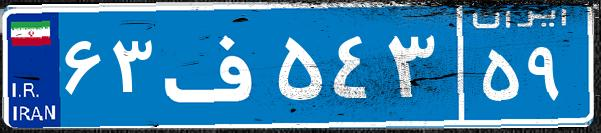3: (385, 28, 445, 110), (110, 28, 158, 105)
4: (330, 28, 385, 110)
5: (273, 28, 330, 110), (475, 38, 525, 113)
6: (57, 26, 110, 107)
9: (525, 38, 570, 115)
ف: (158, 15, 273, 115)
